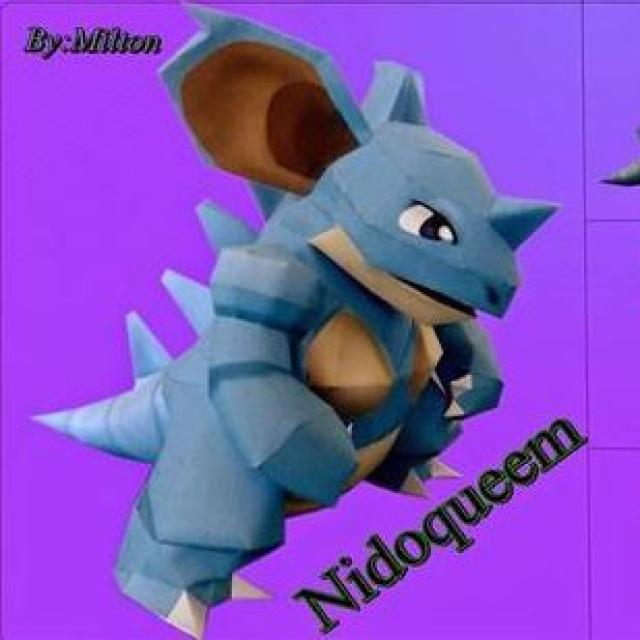Nidoqueen: (123, 87, 536, 610)
